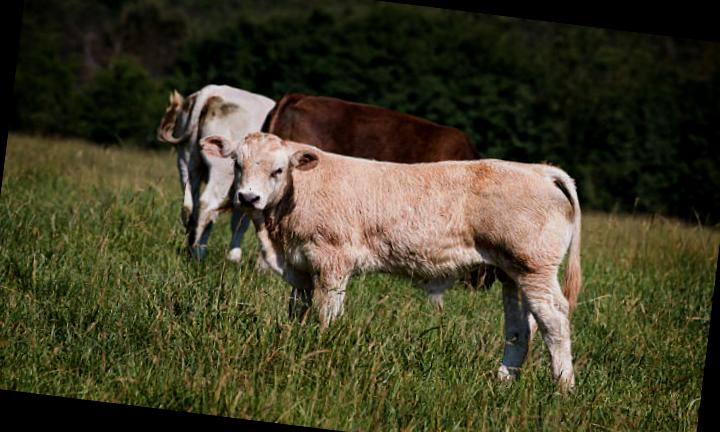Charolais: (201, 133, 581, 387)
